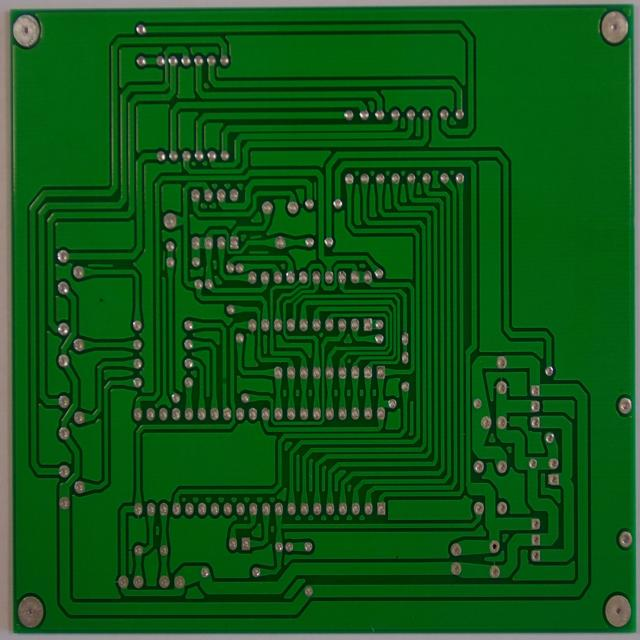spurious_copper: (85, 258, 115, 271), (310, 178, 320, 202), (247, 247, 270, 257), (159, 247, 168, 272), (247, 232, 263, 242)
